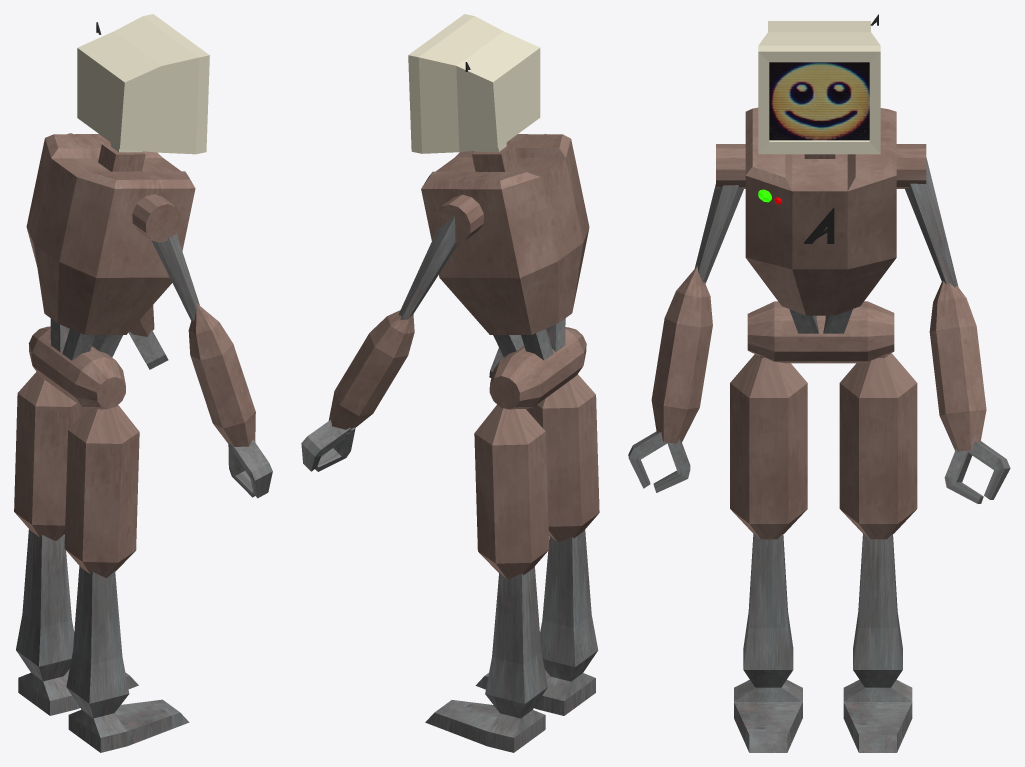
The model's file is sentinel-hallway.fbx.
3 renders of one model, left to right at view 1: azimuth 30°, elevation 25°; view 2: azimuth 150°, elevation 25°; view 3: azimuth 270°, elevation 25°, orthographic. The views are drawn at different scales.
Parts seen in each view (by area): view 1: Cube.004, Cube.003, Cylinder.008, Cube.008, Cube.007, Cylinder.004, Cylinder.006, Cube.006, Cylinder.007, Cube.005; view 2: Cube.004, Cube.003, Cylinder.004, Cube.007, Cube.008, Cylinder.008, Cylinder.005, Cylinder.003, Cube.005; view 3: Cube.004, Cube.003, Cylinder.004, Cylinder.008, Cube.007, Cube.008, Cylinder.006, Cylinder.005, Cylinder.003, Cylinder.007, Cube.005, Cube.006.
Part boxes in pixels (bbox=[...]): Cube.004: bbox=[26, 133, 195, 409]; Cube.003: bbox=[77, 14, 209, 154]; Cylinder.008: bbox=[64, 405, 139, 577]; Cube.008: bbox=[66, 566, 189, 752]; Cube.007: bbox=[16, 529, 138, 715]; Cylinder.004: bbox=[14, 372, 86, 540]; Cylinder.006: bbox=[188, 303, 255, 446]; Cube.006: bbox=[228, 439, 272, 498]; Cylinder.007: bbox=[151, 233, 199, 321]; Cube.005: bbox=[128, 329, 168, 369]; Cube.004: bbox=[421, 134, 589, 409]; Cube.003: bbox=[408, 14, 540, 153]; Cylinder.004: bbox=[474, 404, 549, 578]; Cube.007: bbox=[425, 566, 547, 752]; Cube.008: bbox=[475, 529, 598, 715]; Cylinder.008: bbox=[526, 374, 599, 541]; Cylinder.005: bbox=[328, 310, 414, 429]; Cylinder.003: bbox=[398, 216, 459, 320]; Cube.005: bbox=[301, 420, 355, 471]; Cube.004: bbox=[716, 107, 926, 363]; Cube.003: bbox=[758, 21, 880, 154]; Cylinder.004: bbox=[839, 353, 917, 539]; Cylinder.008: bbox=[730, 354, 807, 539]; Cube.007: bbox=[843, 533, 912, 752]; Cube.008: bbox=[734, 533, 802, 752]; Cylinder.006: bbox=[651, 266, 712, 443]; Cylinder.005: bbox=[929, 281, 986, 451]; Cylinder.003: bbox=[904, 157, 958, 287]; Cylinder.007: bbox=[694, 184, 743, 283]; Cube.005: bbox=[944, 441, 1010, 503]; Cube.006: bbox=[628, 431, 690, 492].
Bounding box in the file's own units: 613 × 2054 × 984.
8 materials, 3 textured.
